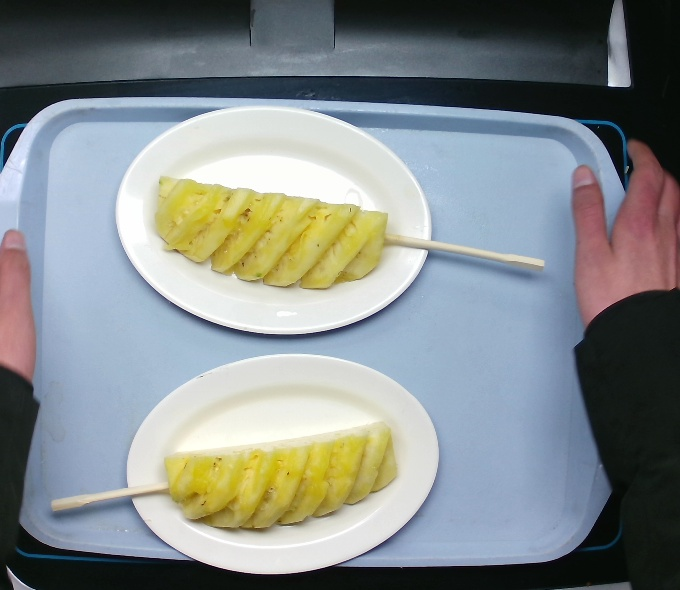wcq-BoLuo: (149, 169, 390, 293), (160, 418, 401, 534)
